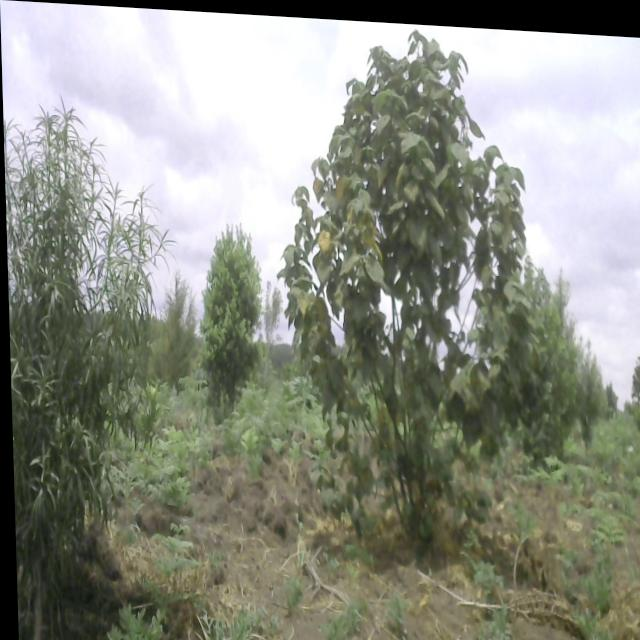Podocarpus falcatus: (2, 104, 178, 597)
Salix alba: (196, 222, 262, 413)
cedrus: (147, 254, 195, 389)
other: (275, 13, 535, 544)
